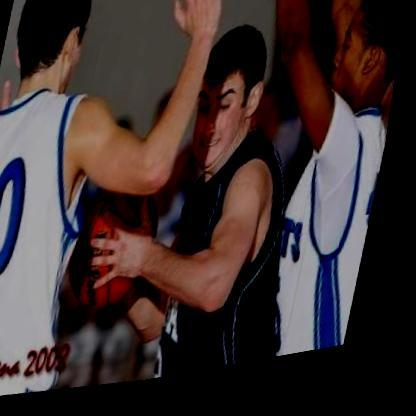basketball: (66, 168, 184, 334)
